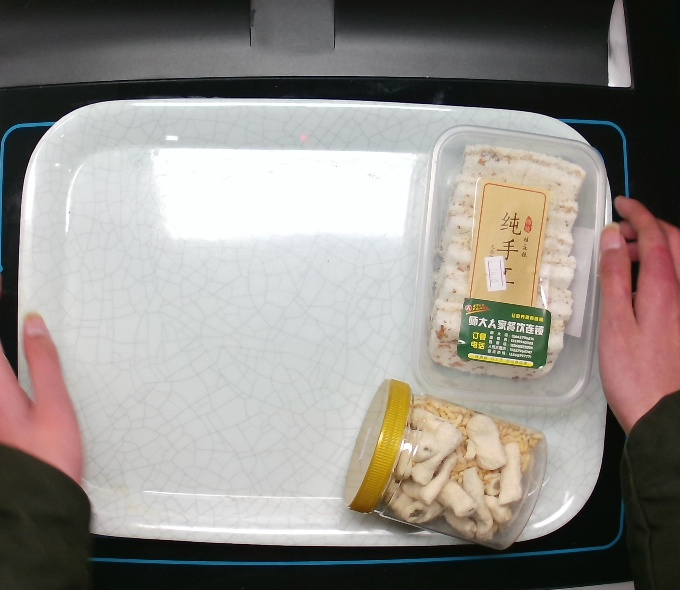wcq-GuiHuaGao: (411, 121, 610, 409)
wcq-MaiYaTang: (336, 374, 552, 556)
